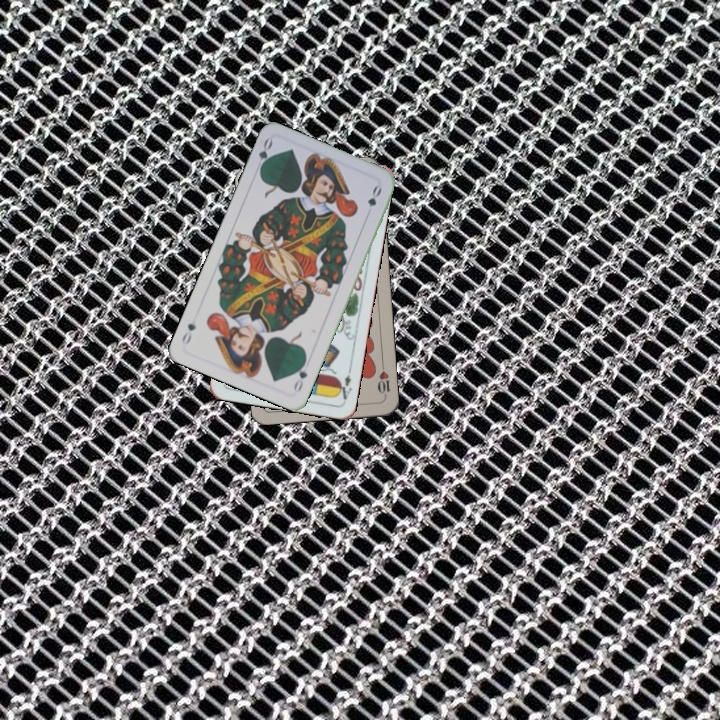EA: (333, 364, 354, 404)
GO: (251, 135, 275, 175), (289, 355, 310, 394)
H10: (373, 359, 392, 400)
